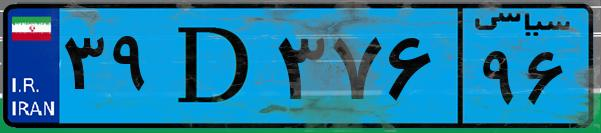3: (270, 28, 330, 110), (57, 26, 110, 100)
6: (385, 28, 445, 110), (525, 38, 570, 115)
7: (330, 28, 385, 110)
9: (475, 38, 525, 113), (110, 28, 158, 98)
D: (158, 12, 270, 120)
